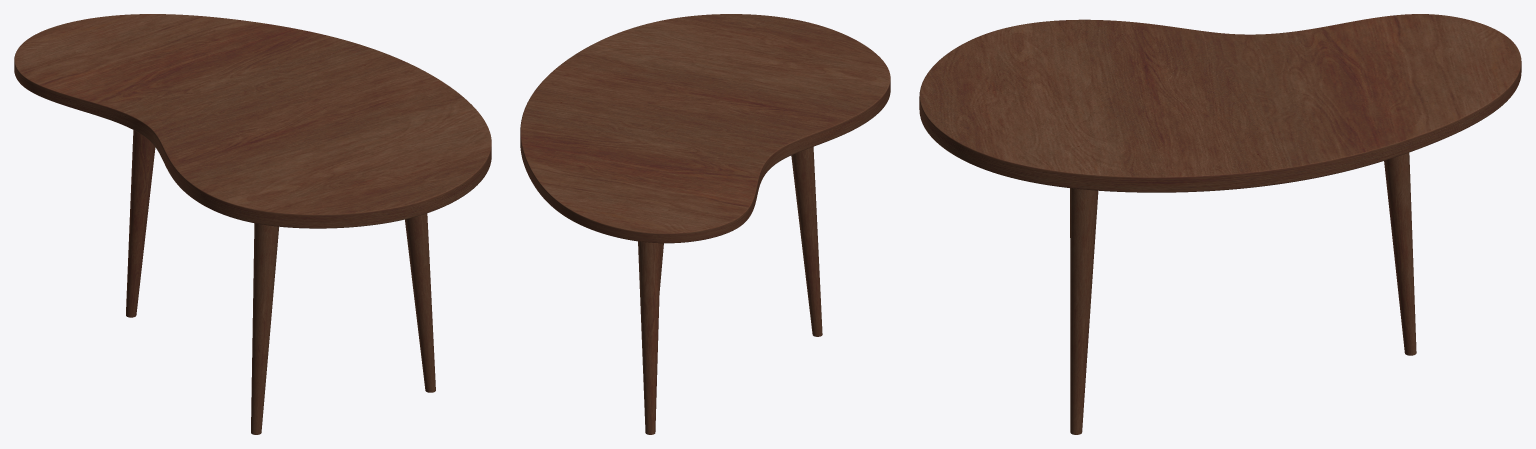
The model's file is Coffeetable.gltf.
3 views of the same model, side by side, from view 1: azimuth 30°, elevation 25°; view 2: azimuth 150°, elevation 25°; view 3: azimuth 270°, elevation 25° (orthographic). The views are drawn at different scales.
Parts seen in each view (by area): view 1: Cube.123, new.003, new.001, new.002; view 2: Cube.123, new.001, new.003; view 3: Cube.123, new.002, new.001.
Boxes of the visible parts, x1,y1,x2,y2 form: Cube.123: (14, 14, 491, 228); new.003: (251, 223, 279, 434); new.001: (126, 130, 155, 317); new.002: (405, 213, 435, 392); Cube.123: (520, 14, 890, 243); new.001: (638, 241, 660, 434); new.003: (791, 147, 822, 336); Cube.123: (919, 14, 1521, 192); new.002: (1070, 188, 1098, 434); new.001: (1384, 152, 1416, 355).
Bounding box in the file's own units: 0.6648 × 0.5382 × 1.02.
1 material, 1 textured.
